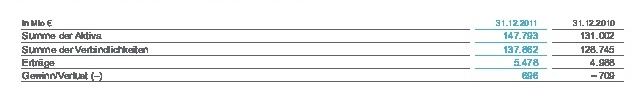table: (0, 0, 644, 97)
